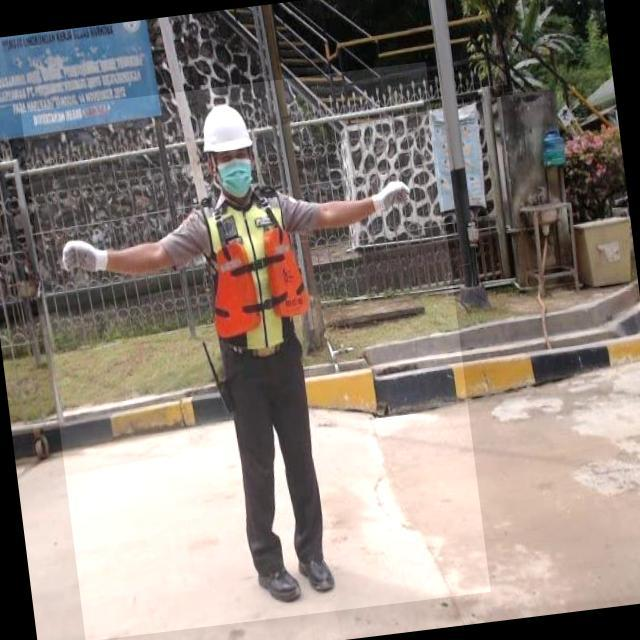Helmet: (197, 102, 256, 153)
Human: (20, 61, 490, 640)
Safety Boot: (254, 554, 302, 605), (299, 549, 339, 597)
Safety Vest: (195, 189, 315, 342)
